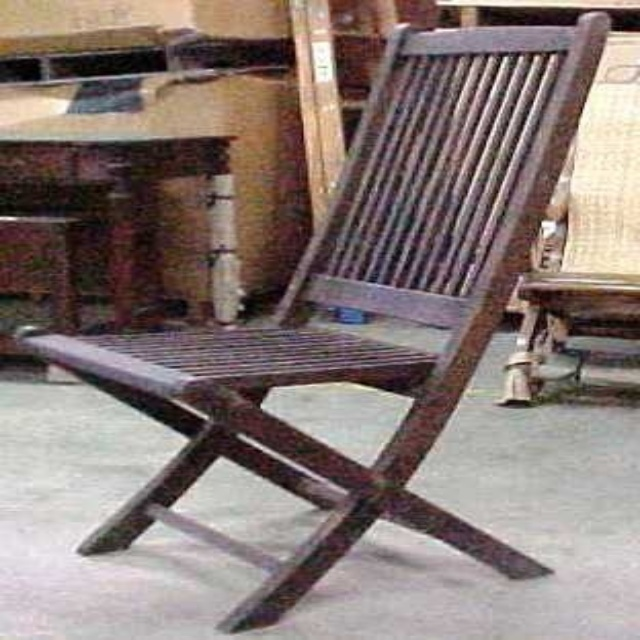obstacle: (25, 13, 607, 631)
